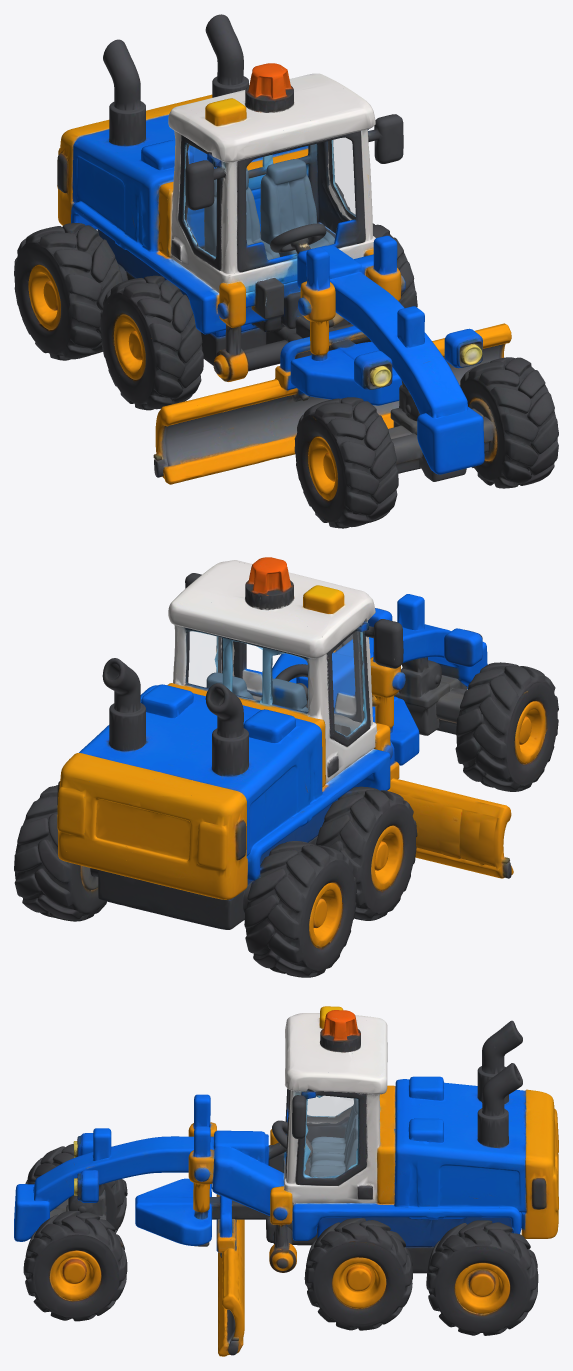
File: grader.glb
3 views of the same model, one above another, from view 1: azimuth 30°, elevation 25°; view 2: azimuth 150°, elevation 25°; view 3: azimuth 270°, elevation 25° (orthographic). The views are drawn at different scales.
Parts seen in each view (by area): view 1: tripo_part_1, tripo_part_15, tripo_part_6, tripo_part_9, tripo_part_23, tripo_part_24, tripo_part_32, tripo_part_11, tripo_part_10, tripo_part_28, tripo_part_5, tripo_part_7 (+53 smaller); view 2: tripo_part_25, tripo_part_1, tripo_part_15, tripo_part_6, tripo_part_16, tripo_part_127, tripo_part_32, tripo_part_2, tripo_part_187, tripo_part_23, tripo_part_11, tripo_part_7 (+44 smaller); view 3: tripo_part_16, tripo_part_1, tripo_part_9, tripo_part_25, tripo_part_18, tripo_part_8, tripo_part_74, tripo_part_4, tripo_part_30, tripo_part_15, tripo_part_22, tripo_part_63 (+38 smaller).
Boxes of the visible parts, box(x1,y1,x2,y2) form: tripo_part_1: box(168, 73, 375, 248); tripo_part_15: box(71, 115, 216, 254); tripo_part_6: box(153, 379, 330, 467); tripo_part_9: box(330, 271, 468, 418); tripo_part_23: box(101, 284, 203, 404); tripo_part_24: box(226, 131, 365, 273); tripo_part_32: box(15, 238, 122, 354); tripo_part_11: box(71, 201, 286, 334); tripo_part_10: box(260, 159, 334, 256); tripo_part_28: box(417, 407, 484, 474); tripo_part_5: box(290, 341, 393, 405); tripo_part_7: box(103, 39, 146, 145); tripo_part_25: box(57, 753, 248, 899); tripo_part_1: box(167, 560, 375, 721); tripo_part_15: box(158, 705, 325, 857); tripo_part_6: box(387, 778, 511, 871); tripo_part_16: box(79, 685, 217, 771); tripo_part_127: box(98, 870, 229, 928); tripo_part_32: box(274, 856, 354, 971); tripo_part_2: box(14, 796, 72, 912); tripo_part_187: box(95, 799, 190, 859); tripo_part_23: box(330, 787, 416, 914); tripo_part_11: box(247, 748, 390, 880); tripo_part_7: box(205, 683, 249, 776); tripo_part_16: box(394, 1109, 526, 1213); tripo_part_1: box(285, 1013, 395, 1204); tripo_part_9: box(32, 1136, 214, 1211); tripo_part_25: box(521, 1089, 558, 1238); tripo_part_18: box(428, 1235, 527, 1335); tripo_part_8: box(307, 1222, 412, 1326); tripo_part_74: box(33, 1234, 119, 1321); tripo_part_4: box(292, 1203, 521, 1240); tripo_part_30: box(212, 1146, 292, 1222); tripo_part_15: box(387, 1079, 525, 1124); tripo_part_22: box(135, 1197, 216, 1245); tripo_part_63: box(279, 1090, 371, 1203).
Bounding box in the file's own units: 1.79 × 1.56 × 2.84.
Materials: 196 (191 with a texture image).
